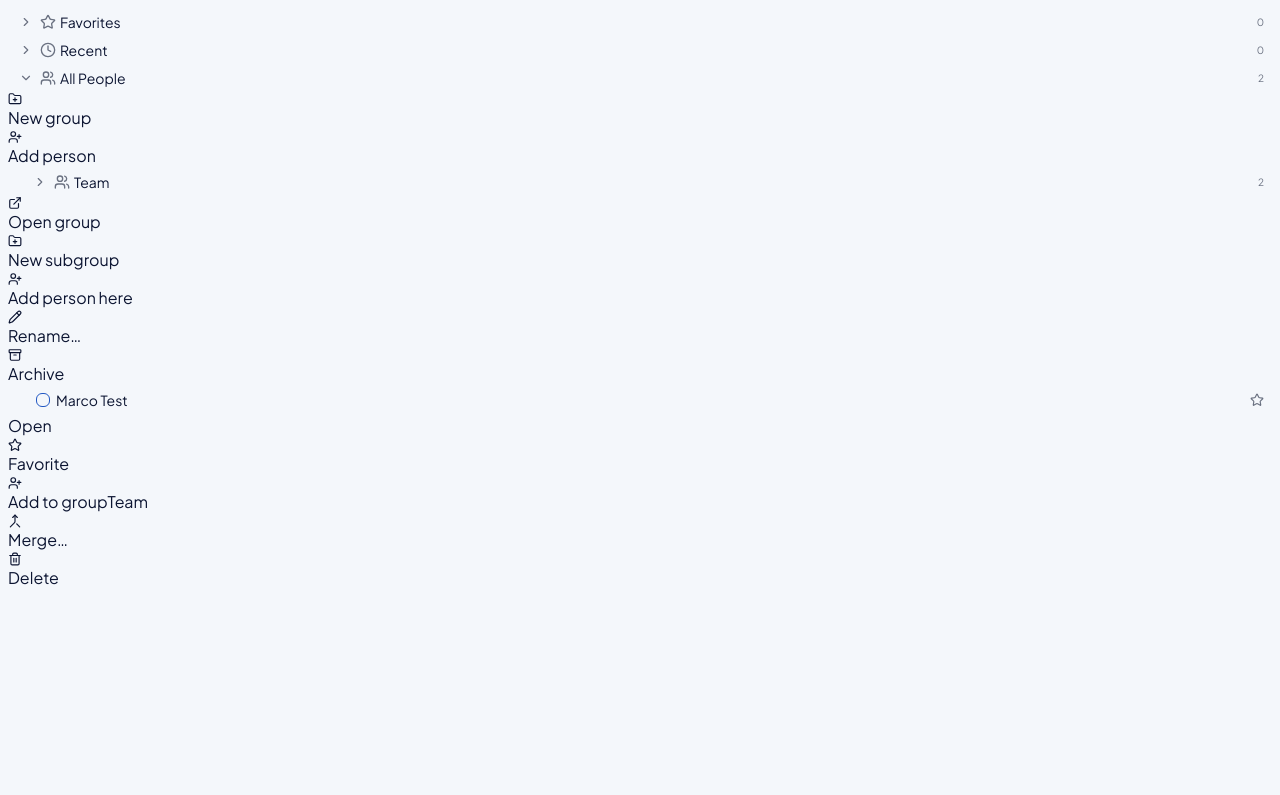
Test: PeopleTree — groups beyond the loaded pages › shows a group member whose name sorts past the loaded pages, from the membership row
The width and height of the screenshot is (1280, 795).
Click the button "Team 2" at (92, 182), box left=8, top=168, right=1272, bottom=196
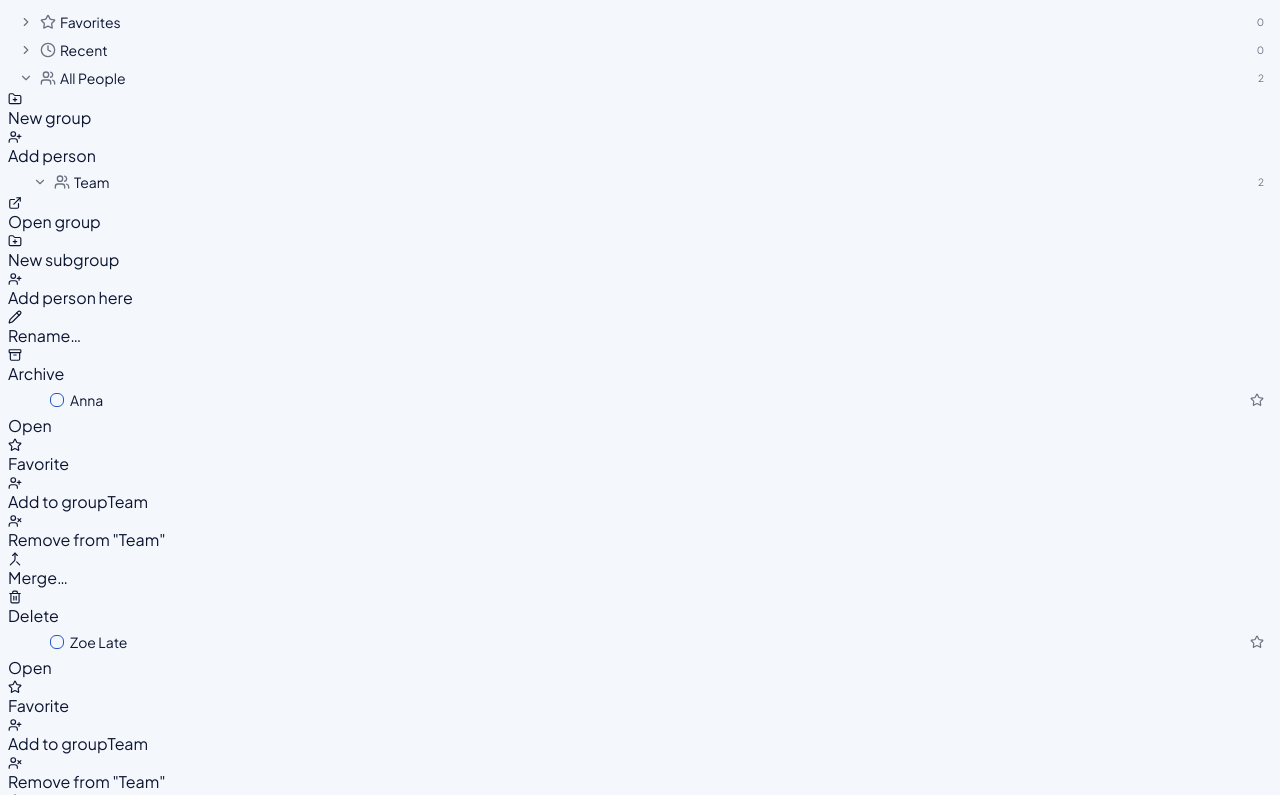
Expected: the text "Zoe Late" is shown, left=70, top=633, right=127, bottom=651
